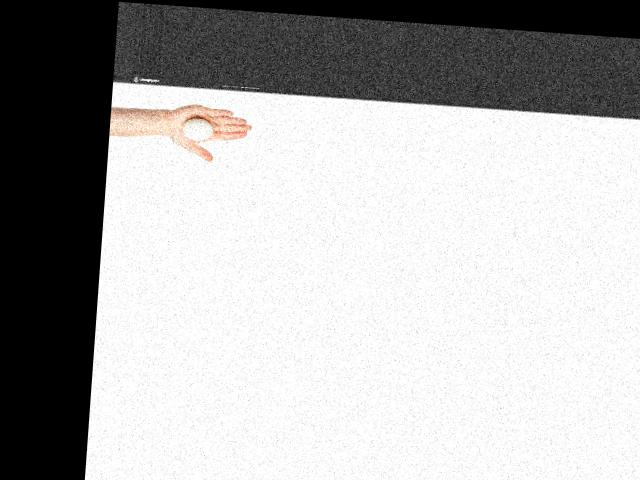egg: (183, 118, 214, 140)
